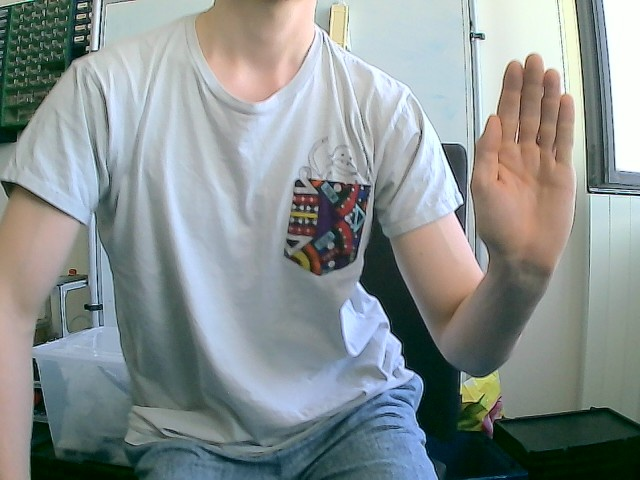stop: (469, 52, 578, 272)
